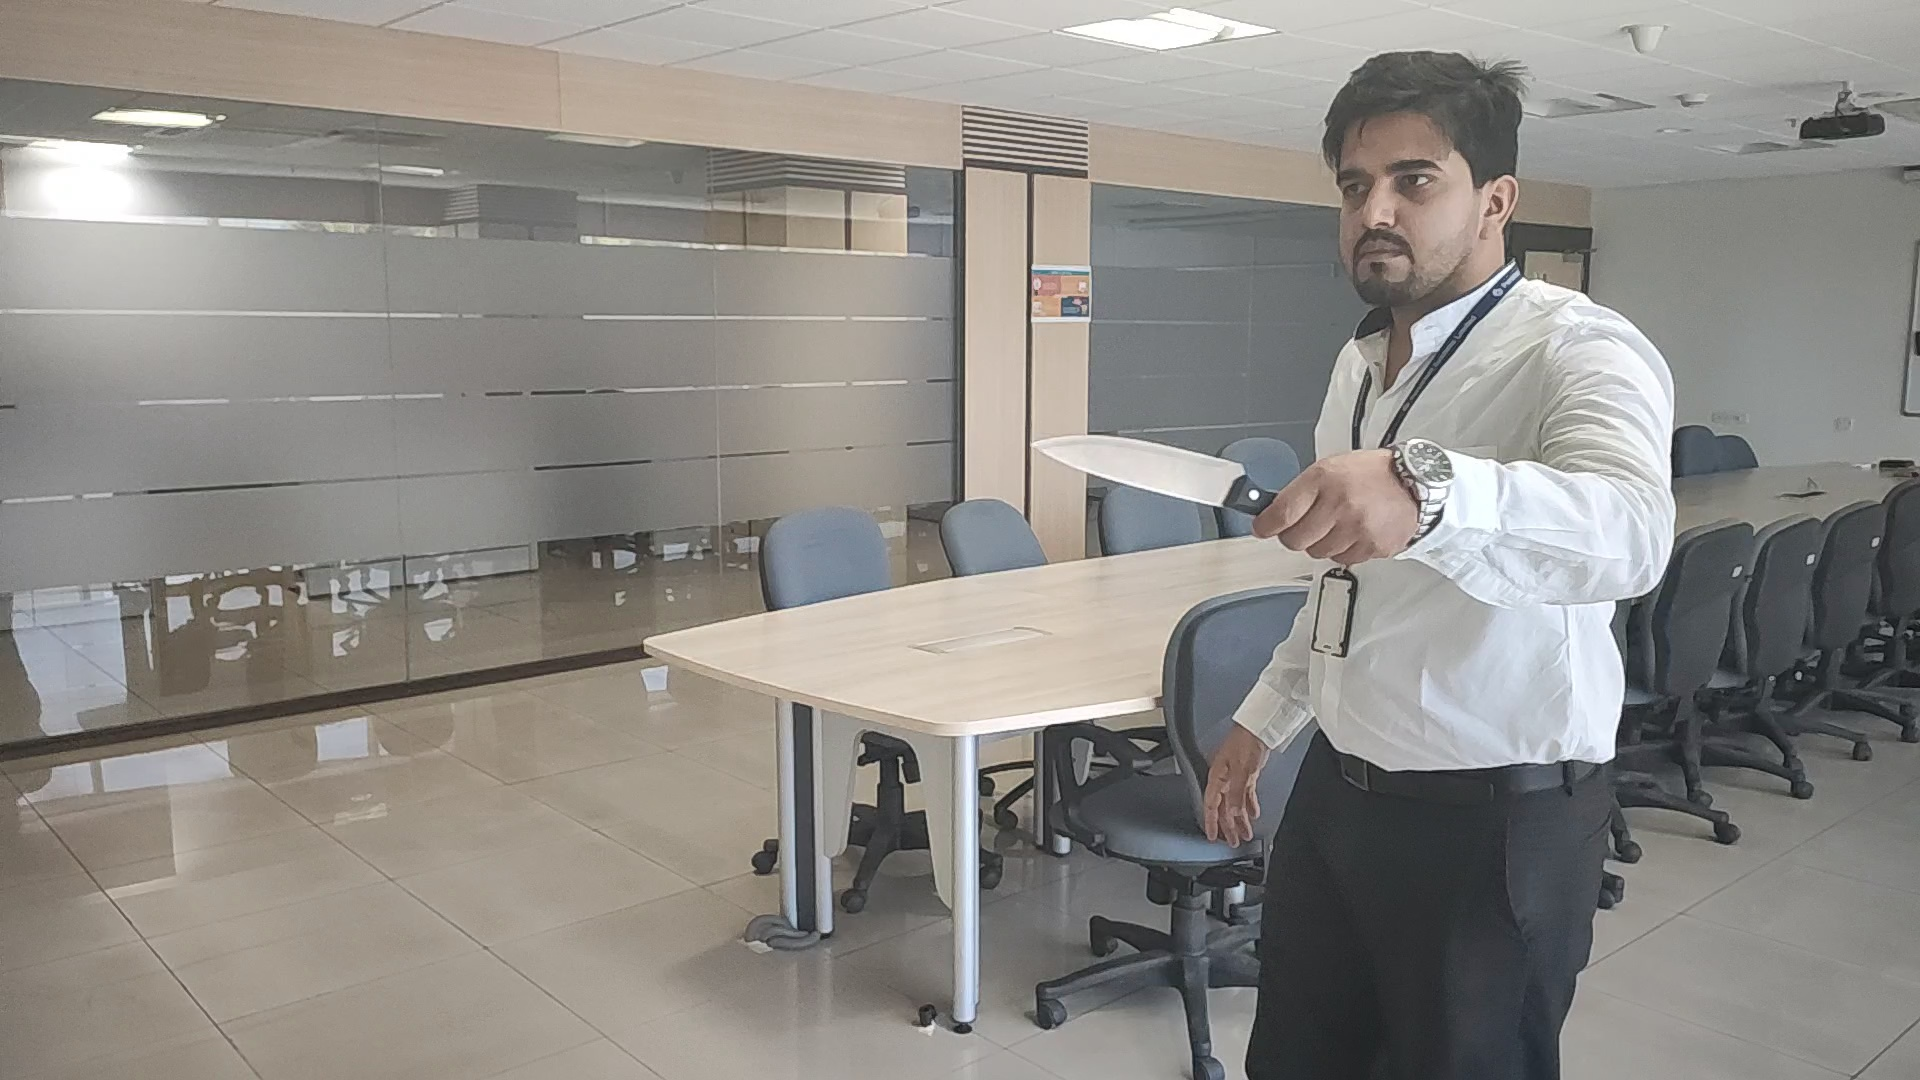knife: (1029, 429, 1274, 514)
